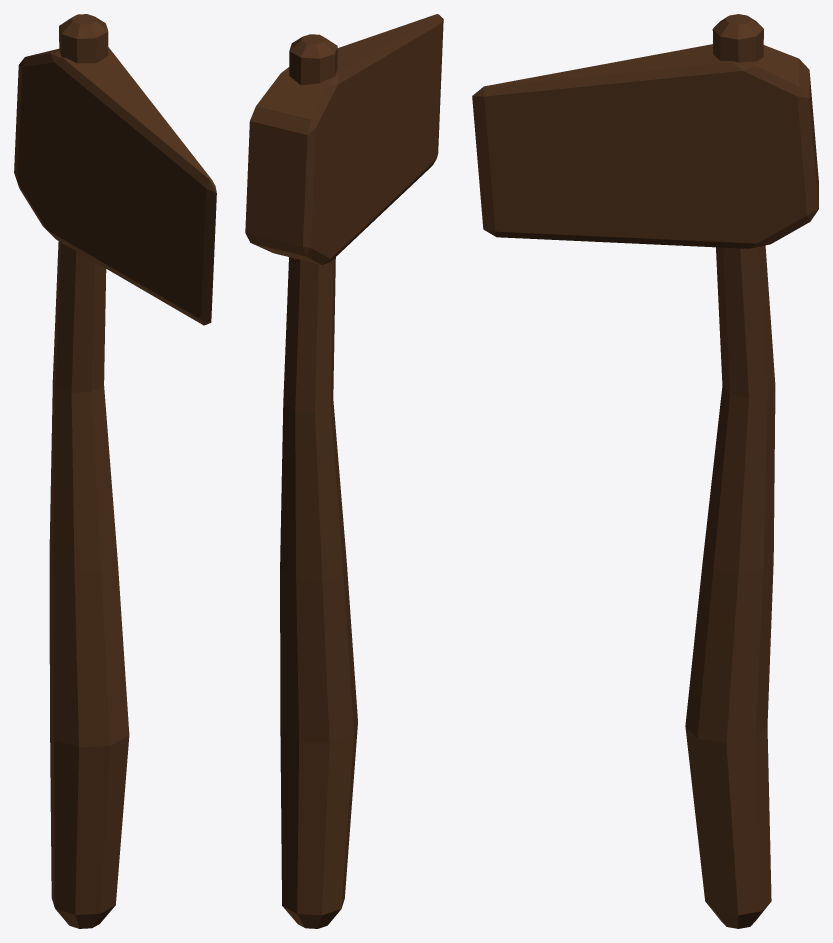
The model's file is wood_axe.glb.
The picture shows the model from 3 angles, left to right: view 1: azimuth 30°, elevation 25°; view 2: azimuth 150°, elevation 25°; view 3: azimuth 270°, elevation 25°; orthographic projection. The views are drawn at different scales.
Visible parts, largest first — view 1: Cylinder; view 2: Cylinder; view 3: Cylinder.
Part boxes in pixels (x1,y1,x2,y2): Cylinder: (14, 14, 216, 928); Cylinder: (245, 14, 443, 928); Cylinder: (472, 14, 818, 928).
Bounding box in the file's own units: 0.2918 × 3.54 × 1.23.
